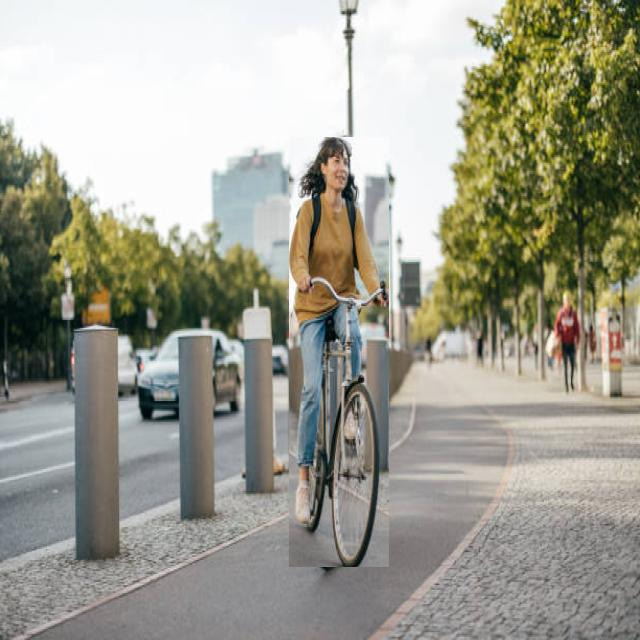bicycle: (289, 137, 389, 567)
